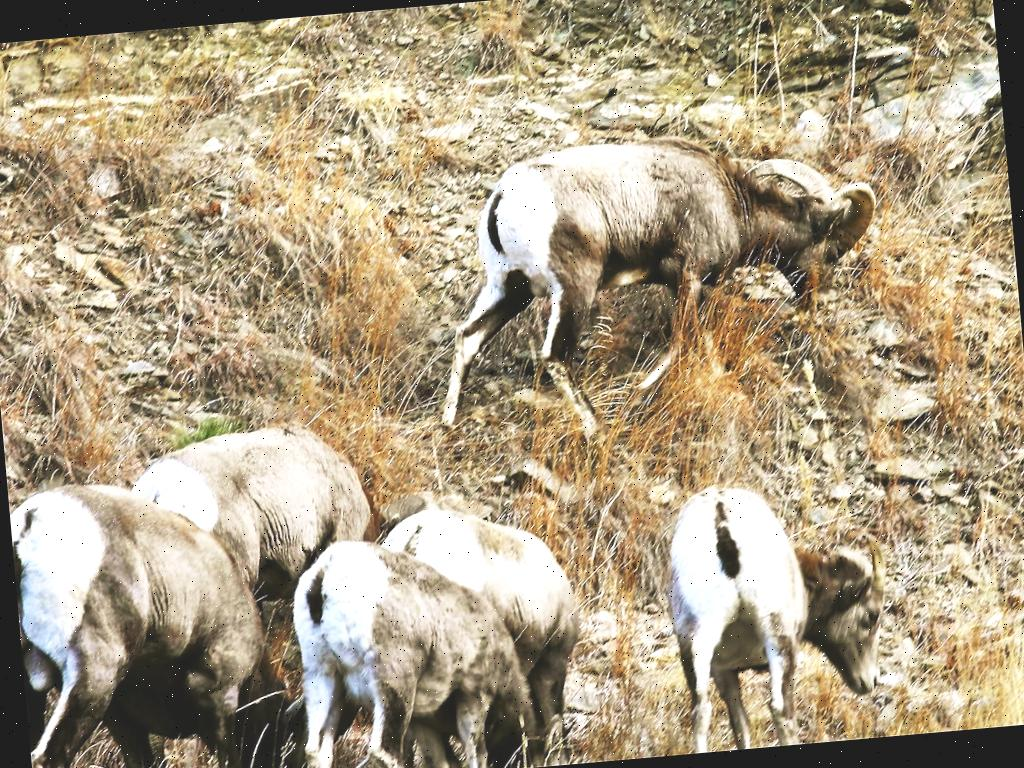Sheep: (426, 104, 898, 442), (617, 438, 945, 758), (6, 451, 291, 768), (368, 462, 630, 768), (285, 515, 549, 768), (106, 402, 388, 594)
